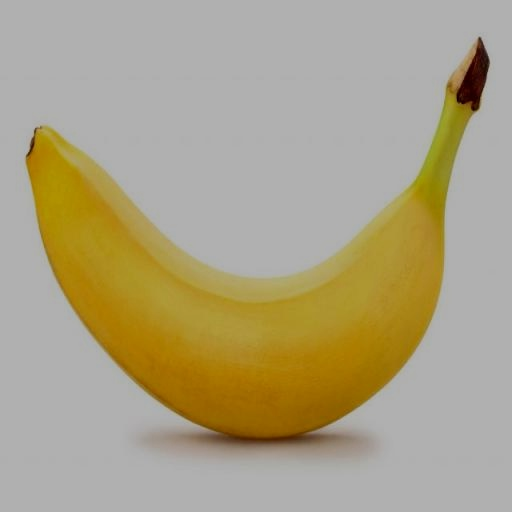fruit: (26, 40, 487, 437)
